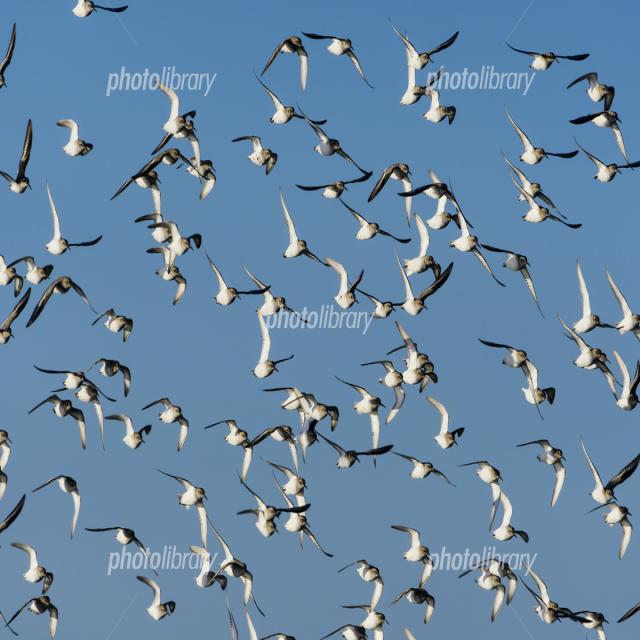bird: (499, 158, 581, 226), (484, 345, 560, 412), (272, 474, 334, 554), (204, 512, 256, 600), (458, 552, 520, 624), (578, 434, 640, 506), (45, 182, 103, 258), (24, 398, 106, 449), (302, 112, 365, 173), (303, 34, 371, 90), (480, 474, 531, 548), (504, 113, 576, 165), (388, 260, 450, 320), (516, 564, 574, 628), (382, 331, 441, 392), (508, 48, 586, 94), (519, 438, 567, 510), (27, 274, 92, 327), (567, 256, 610, 336), (33, 472, 82, 542), (248, 316, 298, 384), (390, 21, 460, 68), (111, 148, 169, 203), (341, 376, 388, 442), (261, 33, 311, 93), (341, 197, 405, 243), (259, 459, 311, 513), (256, 78, 322, 120), (0, 117, 35, 196), (565, 325, 613, 381), (604, 268, 640, 342), (269, 388, 336, 427), (154, 92, 200, 146), (144, 401, 192, 452), (139, 216, 197, 258), (278, 201, 318, 260), (592, 506, 637, 558), (144, 247, 186, 302), (204, 255, 250, 305), (5, 592, 62, 632), (159, 472, 210, 516), (388, 452, 452, 487), (188, 538, 231, 590), (577, 146, 630, 188), (322, 260, 365, 310), (253, 420, 306, 460), (235, 494, 282, 538), (238, 261, 286, 304), (32, 368, 102, 397), (572, 107, 626, 144), (480, 247, 535, 283), (11, 545, 57, 588), (133, 579, 179, 622), (392, 583, 438, 626), (364, 162, 413, 202), (428, 402, 467, 451), (607, 353, 639, 412), (0, 254, 51, 291), (324, 612, 391, 640), (88, 358, 134, 398), (416, 168, 467, 204), (294, 172, 355, 202), (91, 524, 148, 556), (392, 526, 434, 569), (234, 136, 278, 177), (90, 304, 135, 344), (107, 412, 152, 450), (570, 72, 616, 106), (338, 560, 384, 592), (57, 120, 95, 158), (420, 86, 456, 126), (217, 610, 264, 640), (322, 436, 363, 470), (461, 456, 503, 488), (0, 23, 20, 90), (444, 223, 482, 257), (570, 609, 612, 638), (209, 421, 252, 449), (0, 494, 26, 539), (68, 0, 128, 19), (617, 589, 640, 628)
